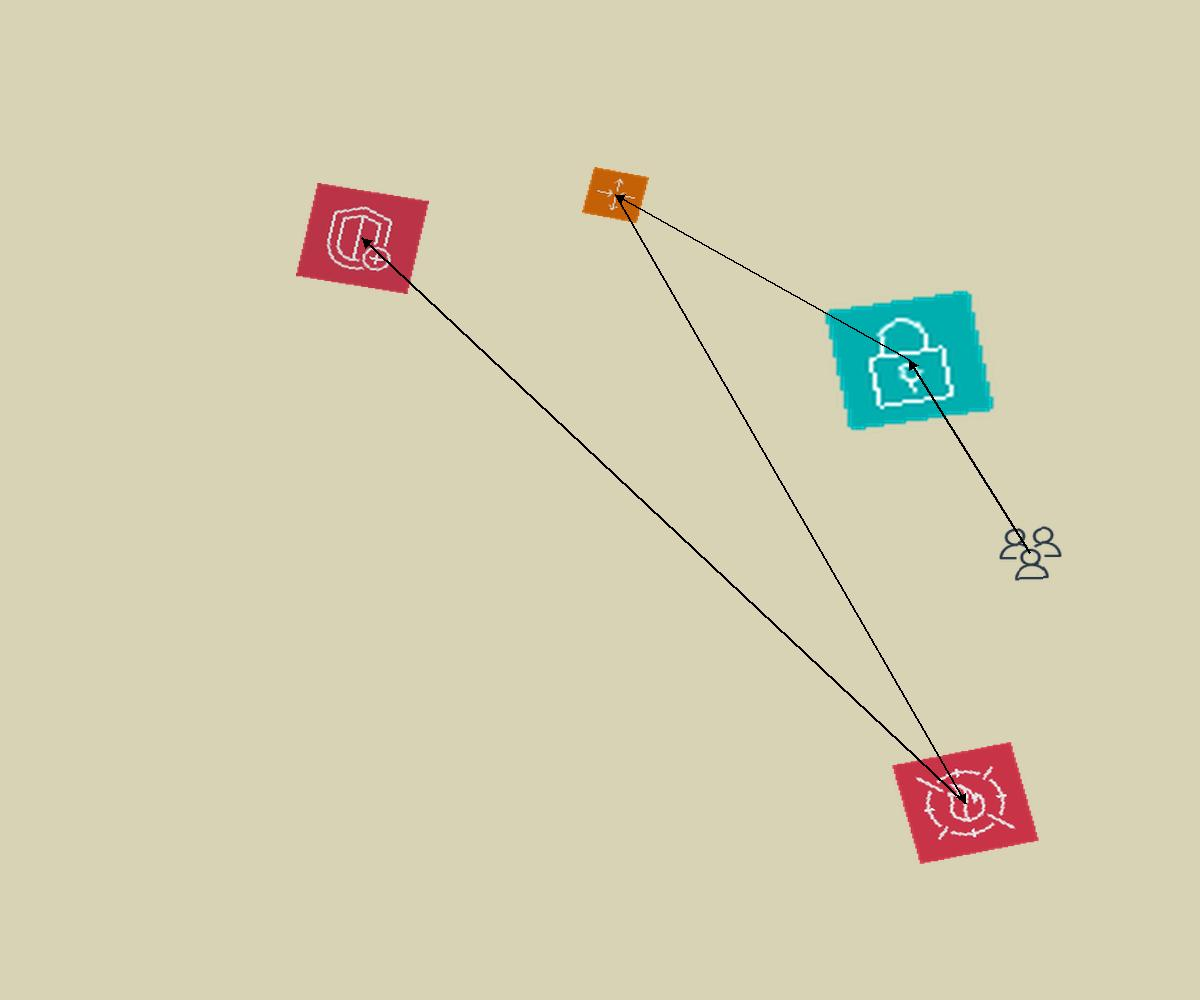AWS-Private-subnet: (822, 288, 997, 433)
AWS-Res_Users: (994, 523, 1067, 584)
AWS-Scaling-group: (582, 167, 649, 223)
AWS-Shield: (296, 183, 429, 294)
AWS-WAF: (891, 741, 1040, 865)
